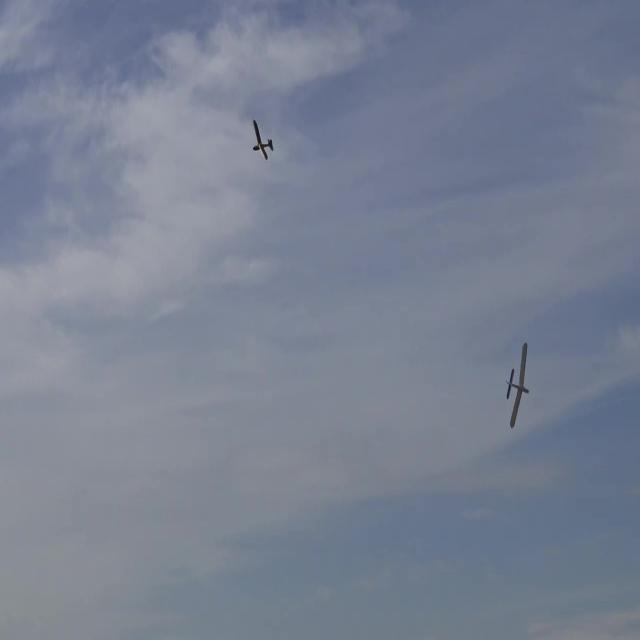iha: (246, 111, 267, 155), (505, 373, 529, 396)
